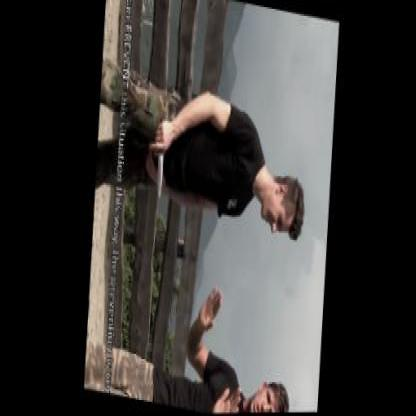knife: (144, 113, 169, 205)
